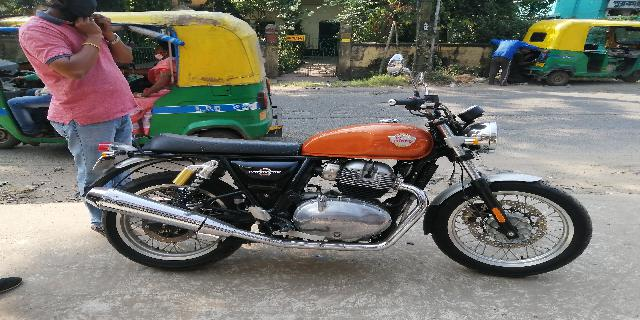Autorickshaw: (2, 9, 282, 149), (526, 15, 640, 88)
Motorbike: (87, 55, 599, 285)
